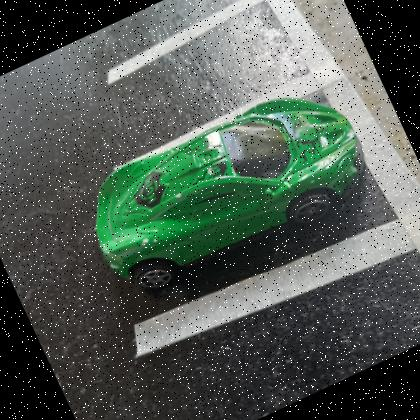Car: (96, 97, 366, 295)
